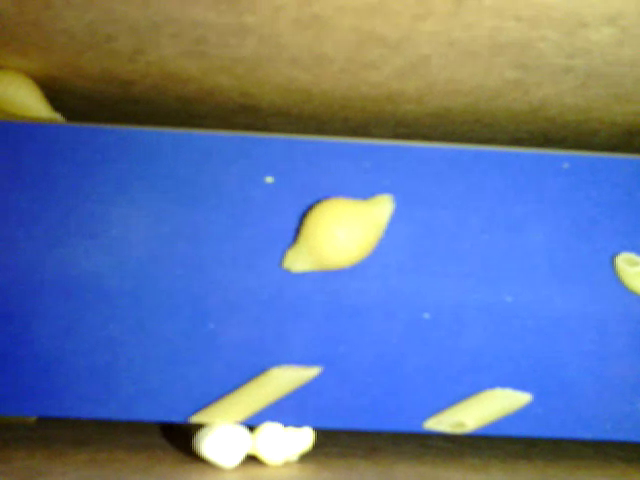elbow: (613, 247, 638, 291)
penne: (189, 364, 328, 423), (421, 387, 534, 431)
shell: (281, 189, 398, 276), (1, 65, 64, 127)
